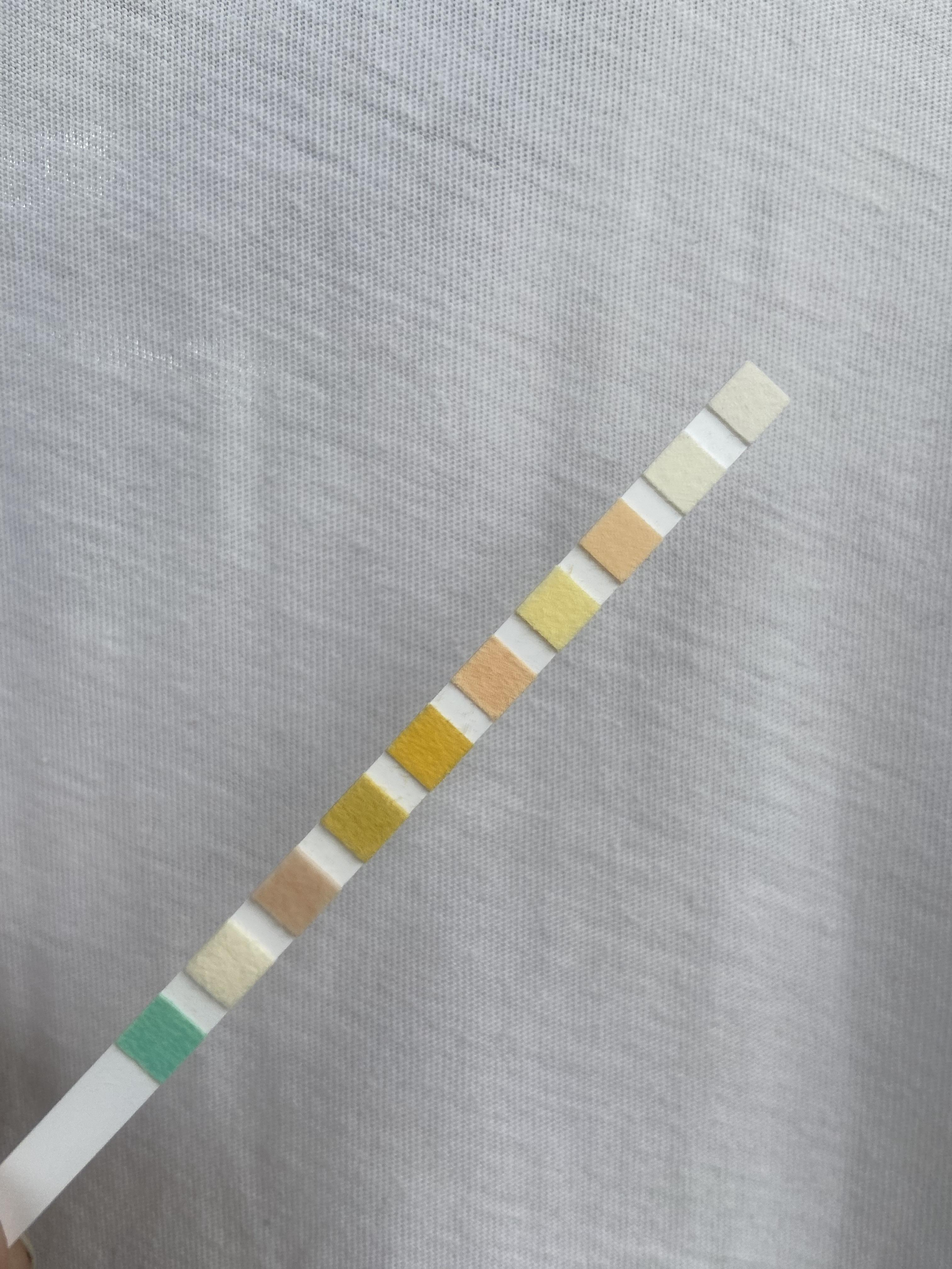Bilirubin: (206, 943, 252, 988)
Blood: (409, 725, 453, 771)
Glucose: (135, 1019, 188, 1063)
Ketone: (273, 872, 324, 912)
Leukocytes: (728, 379, 772, 423)
Nitrite: (658, 456, 711, 489)
Protein: (540, 584, 579, 634)
SpGravity: (344, 794, 389, 841)
Urobilinogen: (604, 514, 639, 566)
pH: (475, 656, 516, 700)
strip: (11, 360, 790, 1200)
